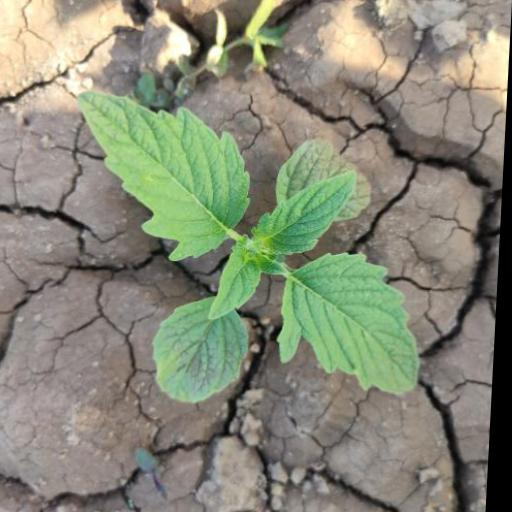crop: (45, 95, 436, 418)
